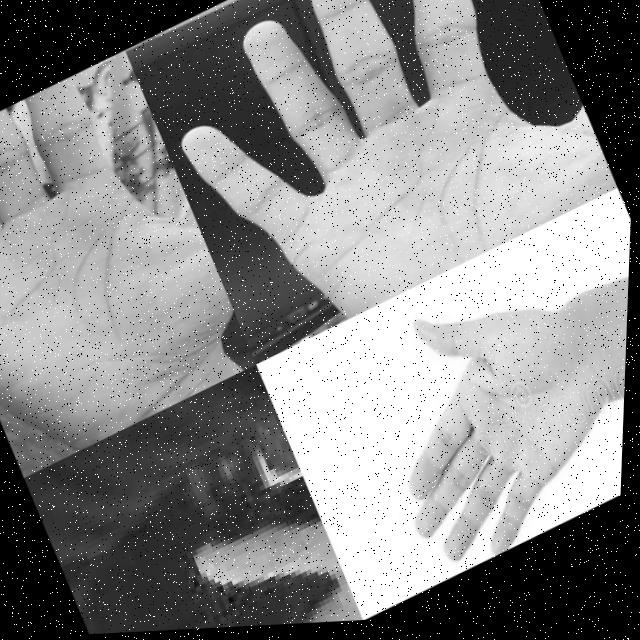hand: (126, 0, 625, 366), (0, 45, 267, 479), (337, 250, 632, 593), (76, 485, 371, 636)
